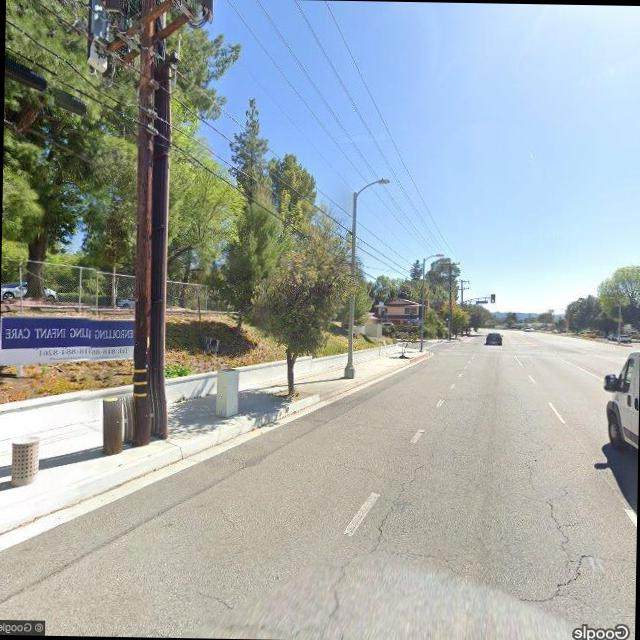crack: (516, 461, 626, 606)
pothole: (373, 442, 439, 555)
